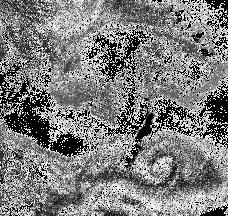CE: (132, 139, 185, 189)
